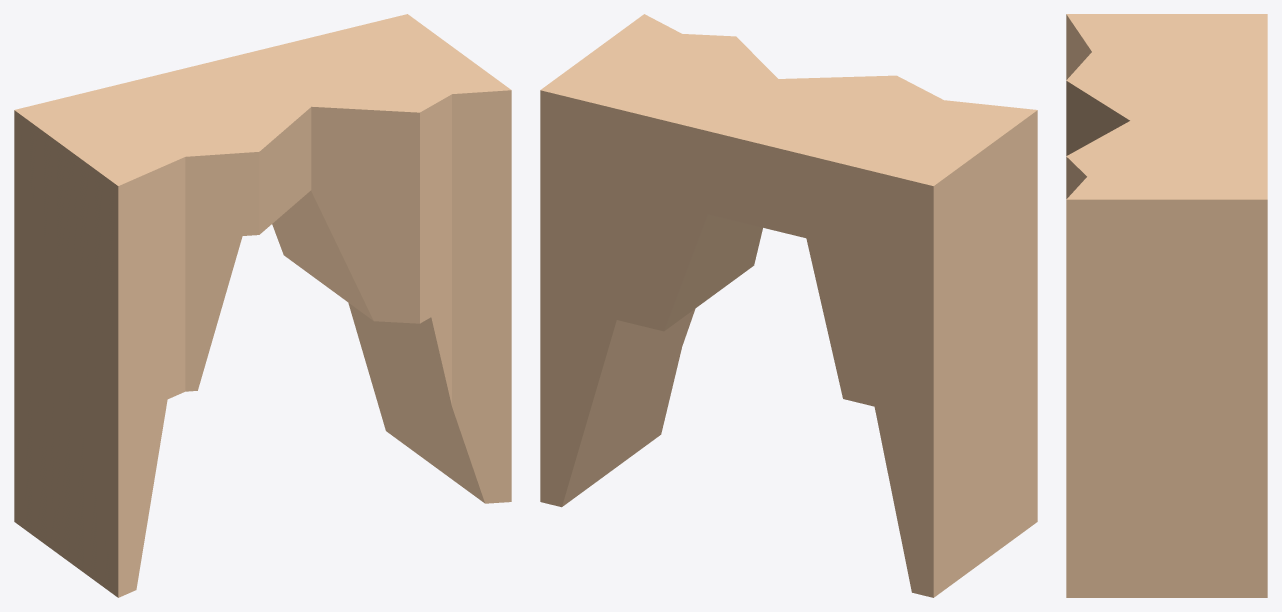
Rendered from cliffBrown_entrance.gltf.
3 renders of one model, left to right at view 1: azimuth 30°, elevation 25°; view 2: azimuth 150°, elevation 25°; view 3: azimuth 270°, elevation 25°, orthographic. The views are drawn at different scales.
Visible parts, largest first — view 1: cliffBrown_entrance; view 2: cliffBrown_entrance; view 3: cliffBrown_entrance.
Boxes of the visible parts, x1=… form: cliffBrown_entrance: x1=14, y1=14, x2=511, y2=597; cliffBrown_entrance: x1=540, y1=14, x2=1037, y2=597; cliffBrown_entrance: x1=1066, y1=14, x2=1267, y2=597.
Bounding box in the file's own units: 10 × 10 × 4.58.
